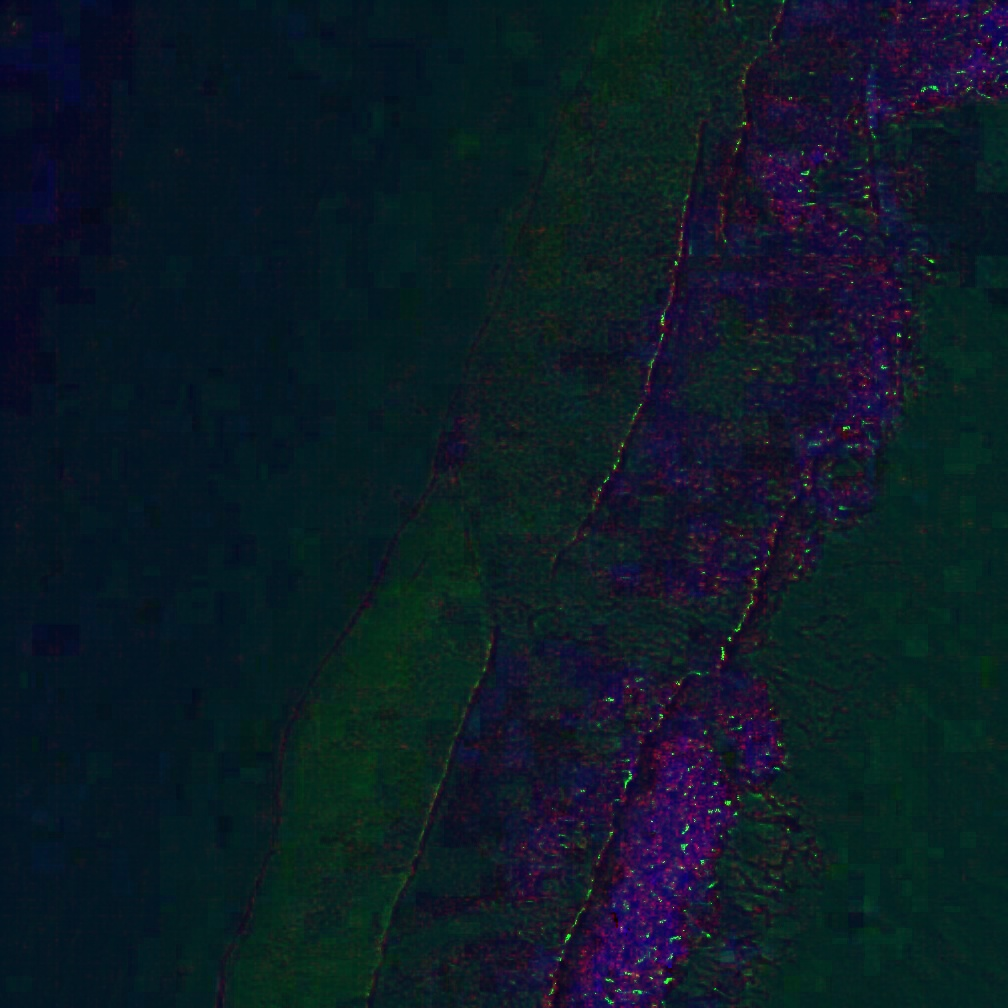rip_current: (328, 464, 814, 744)
